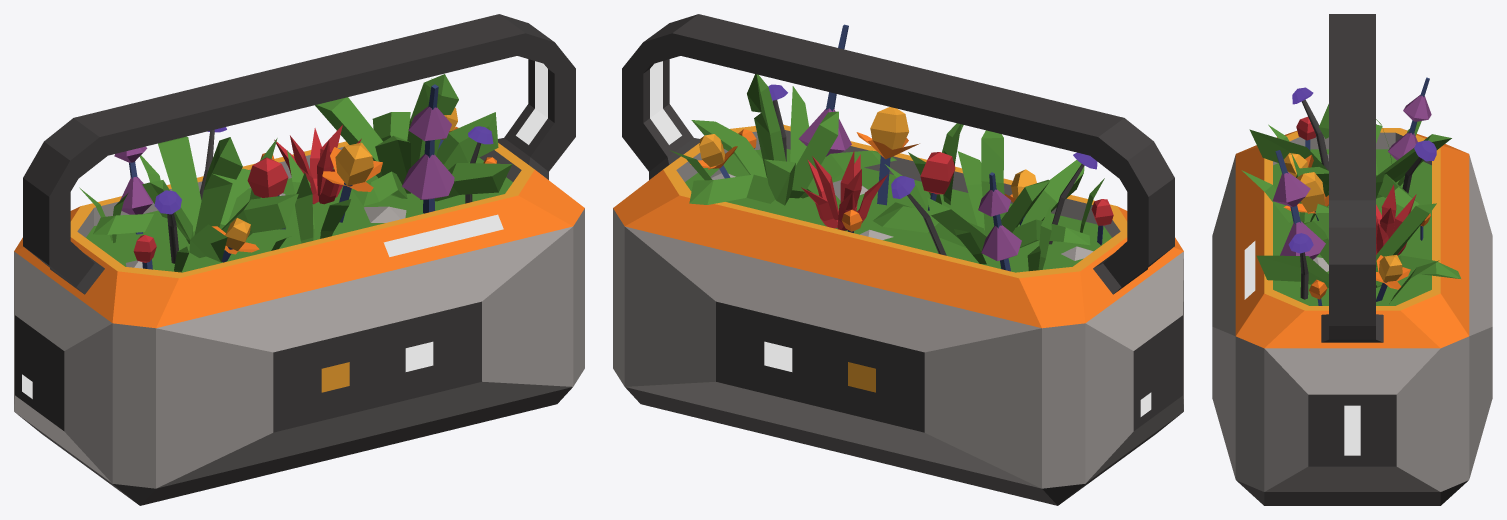
Rendered from sm_vegetable_garden.gltf.
3 views of the same model, side by side, from view 1: azimuth 30°, elevation 25°; view 2: azimuth 150°, elevation 25°; view 3: azimuth 270°, elevation 25° (orthographic). The views are drawn at different scales.
Visible parts, largest first — view 1: scifi-pot-medium-plants; view 2: scifi-pot-medium-plants; view 3: scifi-pot-medium-plants.
Part boxes in pixels (x1,y1,x2,y2): scifi-pot-medium-plants: [14, 14, 584, 505]; scifi-pot-medium-plants: [613, 14, 1183, 505]; scifi-pot-medium-plants: [1212, 14, 1492, 505].
Bounding box in the file's own units: 2.02 × 1.26 × 1.04.
